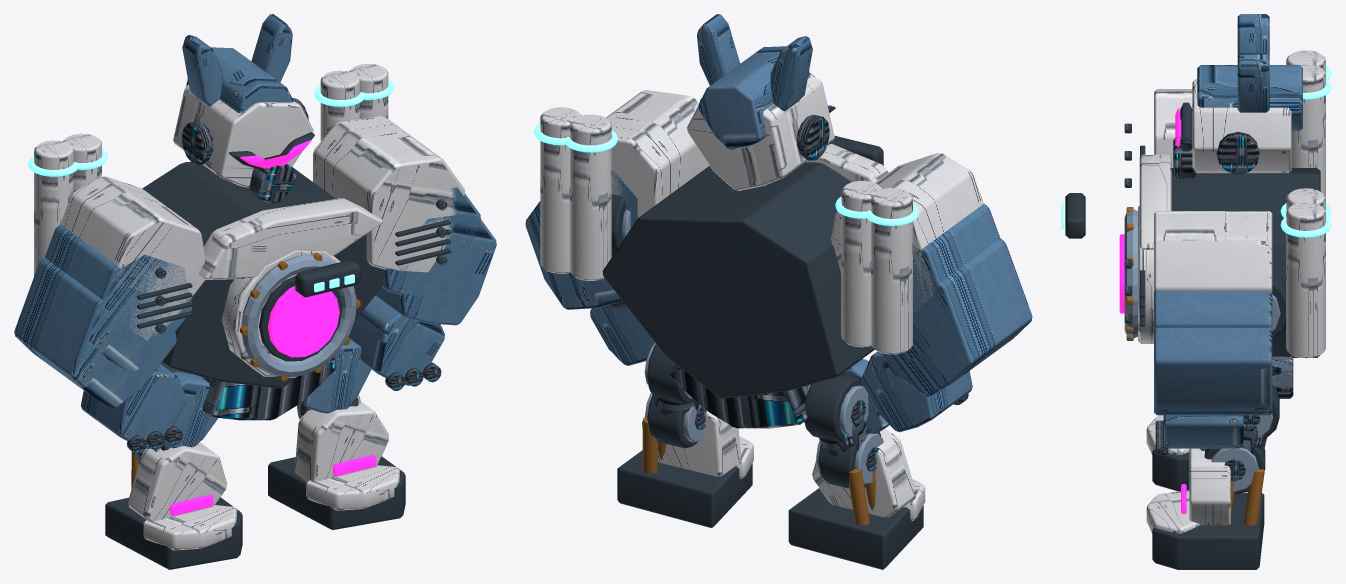
The model's file is sector_03_2.glb.
3 renders of one model, left to right at view 1: azimuth 30°, elevation 25°; view 2: azimuth 150°, elevation 25°; view 3: azimuth 270°, elevation 25°, orthographic. The views are drawn at different scales.
Parts seen in each view (by area): view 1: Upper chest plating, Navy crown, Reinforced heavy torso, Face guard, Greave armor, Greave armor.001, Reactor lens, Reactor concentric ring, Servo housing.001, Servo housing.004, Tapered thigh shield.001, Tapered thigh shield (+1 smaller); view 2: Upper chest plating, Reinforced heavy torso, Navy crown, Servo housing.001, Servo housing.004, Face guard, Greave armor, Greave armor.001, Bearing ring.002, Coolant collar, Hub.002, Calf piston (+4 smaller); view 3: Upper chest plating, Navy crown, Reinforced heavy torso, Servo housing.004, Greave armor.001, Face guard, Reactor concentric ring, Servo housing.001, Bearing ring.008, Coolant collar, Hub.008, Calf piston.002 (+2 smaller).
Boxes of the visible parts, x1,y1,x2,y2 form: Upper chest plating: (34, 64, 465, 377); Navy crown: (14, 14, 496, 448); Reinforced heavy torso: (137, 132, 450, 388); Face guard: (127, 98, 447, 453); Greave armor: (127, 442, 237, 550); Greave armor.001: (294, 402, 399, 510); Reactor lens: (240, 140, 339, 357); Reactor concentric ring: (241, 255, 356, 376); Servo housing.001: (105, 362, 242, 569); Servo housing.004: (268, 398, 405, 530); Tapered thigh shield.001: (301, 339, 371, 413); Tapered thigh shield: (164, 371, 218, 448); Upper chest plating: (540, 73, 983, 354); Reinforced heavy torso: (602, 106, 883, 398); Navy crown: (525, 14, 1032, 432); Servo housing.001: (788, 373, 923, 569); Servo housing.004: (617, 344, 752, 527); Face guard: (610, 98, 968, 428); Greave armor: (812, 428, 925, 520); Greave armor.001: (642, 411, 753, 478); Bearing ring.002: (804, 384, 883, 484); Coolant collar: (534, 123, 918, 225); Hub.002: (819, 400, 879, 471); Calf piston: (849, 469, 875, 525); Upper chest plating: (1138, 50, 1325, 358); Navy crown: (1154, 14, 1302, 448); Reinforced heavy torso: (1065, 102, 1320, 357); Servo housing.004: (1152, 384, 1279, 569); Greave armor.001: (1146, 448, 1230, 533); Face guard: (1124, 123, 1293, 454); Reactor concentric ring: (1124, 209, 1280, 338); Servo housing.001: (1152, 449, 1189, 491); Bearing ring.008: (1211, 413, 1272, 491); Coolant collar: (1061, 65, 1331, 237); Hub.008: (1224, 415, 1266, 481); Calf piston.002: (1219, 469, 1264, 525).
Size of the model in its own units: 1.52 by 1.64 by 0.8445.
8 materials, 3 textured.
